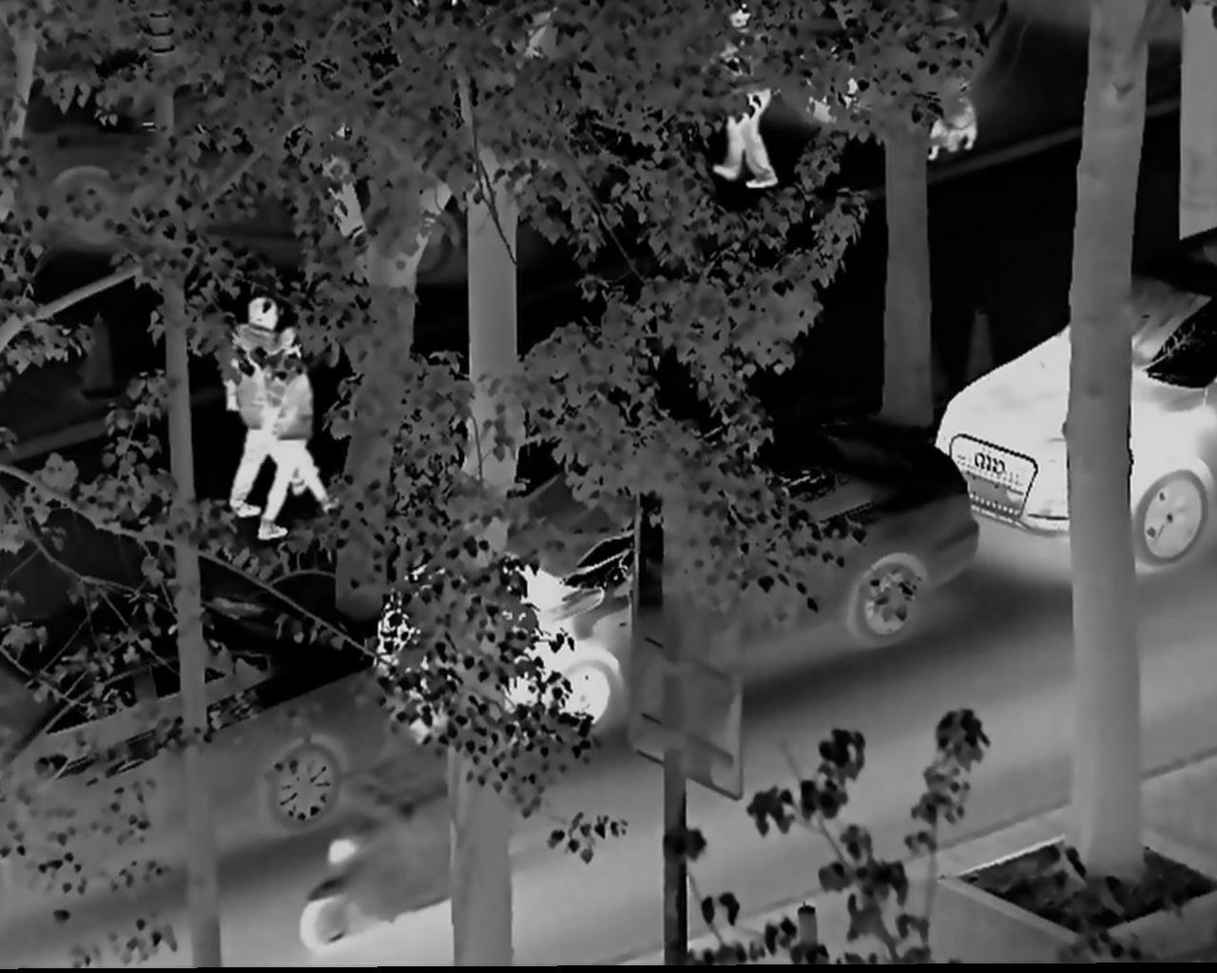person: (210, 286, 292, 528), (258, 331, 338, 540), (718, 10, 783, 197)
